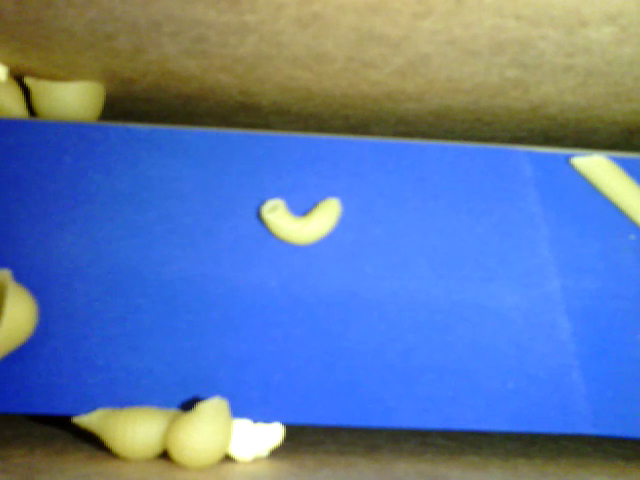elbow: (258, 198, 345, 249)
penne: (565, 152, 638, 233)
shell: (70, 407, 184, 464), (167, 393, 234, 469), (20, 74, 109, 130), (2, 266, 36, 359)
